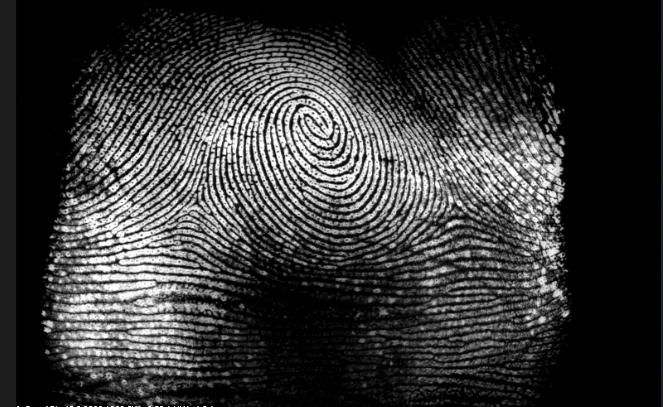deltas: (167, 179, 221, 237), (431, 187, 485, 236)
nucleo: (283, 96, 348, 155)
